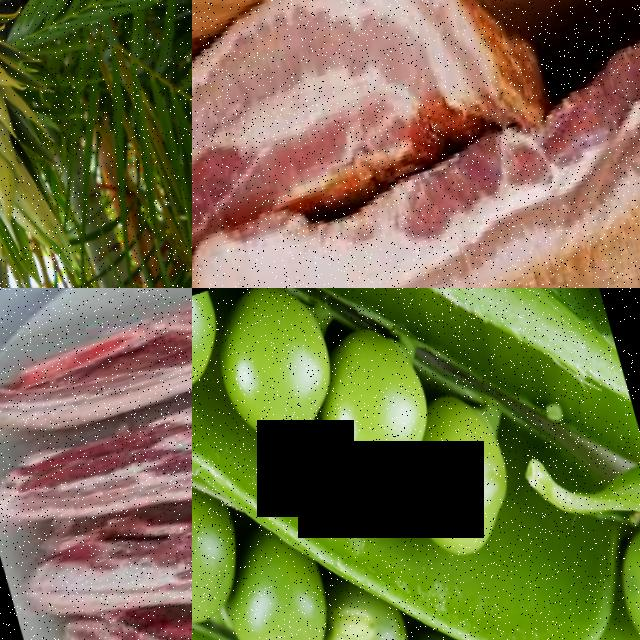peas: (199, 288, 529, 628), (209, 491, 501, 640)
pork belly: (192, 0, 554, 288), (192, 94, 640, 288), (0, 294, 192, 559), (8, 378, 192, 640), (0, 288, 192, 457), (34, 468, 192, 640)
